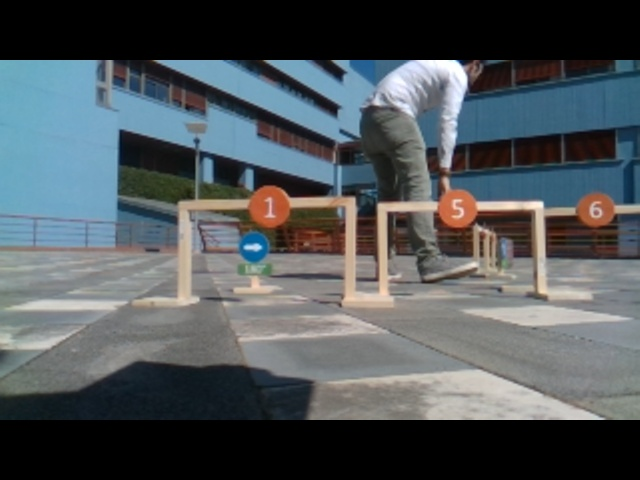180_degree: (236, 263, 278, 277)
arrow_right: (238, 232, 271, 262)
checkpoint_foot: (129, 286, 201, 313), (534, 284, 597, 303), (336, 286, 380, 310)
checkpoint_side: (175, 197, 194, 300), (340, 188, 359, 291), (532, 195, 549, 291), (374, 197, 390, 296)
checkpoint_signal: (175, 193, 359, 212), (374, 196, 546, 216), (372, 194, 544, 214), (545, 202, 640, 217)
five: (434, 189, 479, 228)
one: (245, 183, 292, 229)
six: (576, 189, 617, 226)
